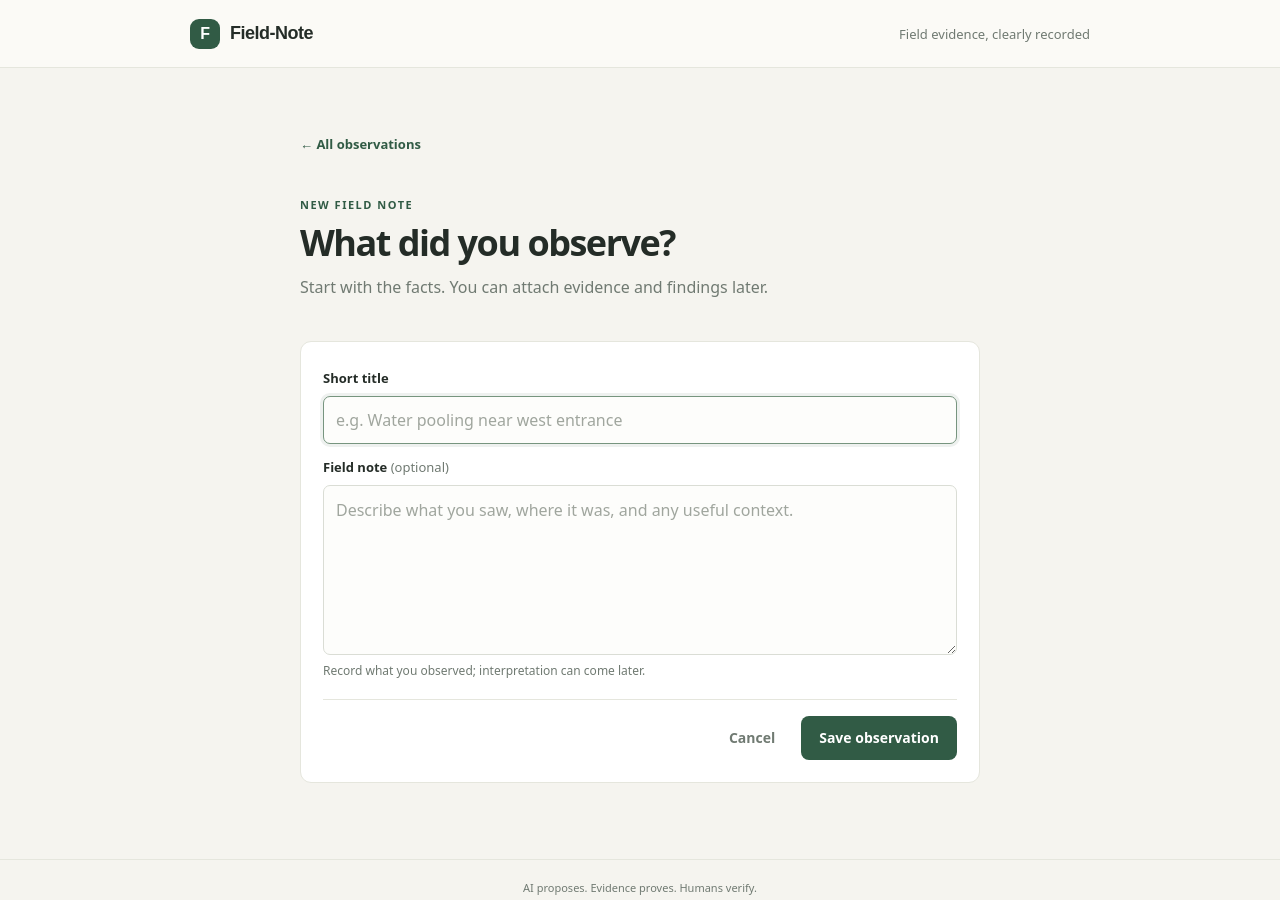
Test: Field-Note interactions › creates an M1 observation and opens the saved server record
The image size is (1280, 900).
Type "Cracked paving" into the field labelled "Short title".
click(640, 420); type("Cracked paving")  # box [323,396,957,444]
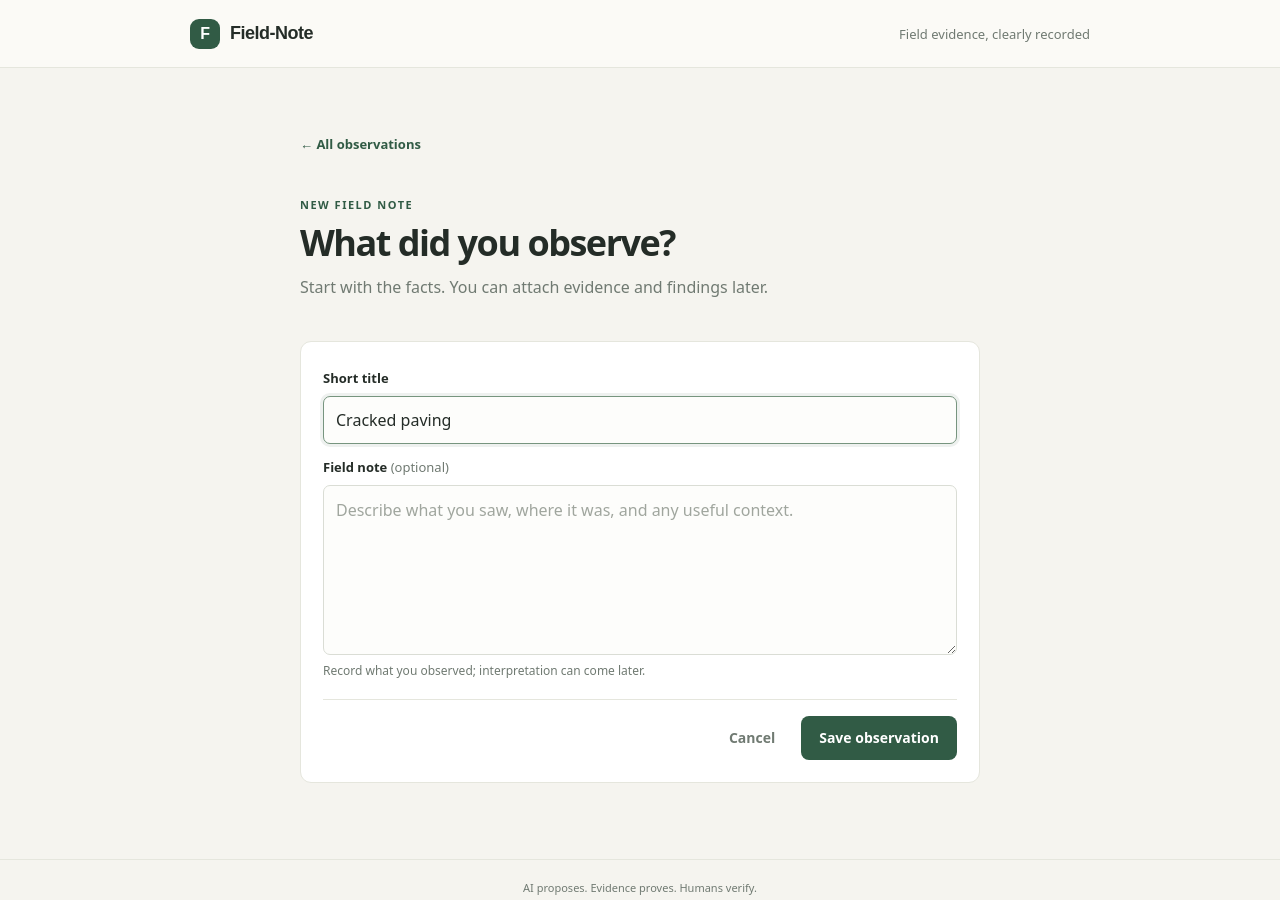
Type "Near the north gate." into the text box labelled "Field note (optional)".
click(640, 570); type("Near the north gate.")  # box [323,485,957,655]
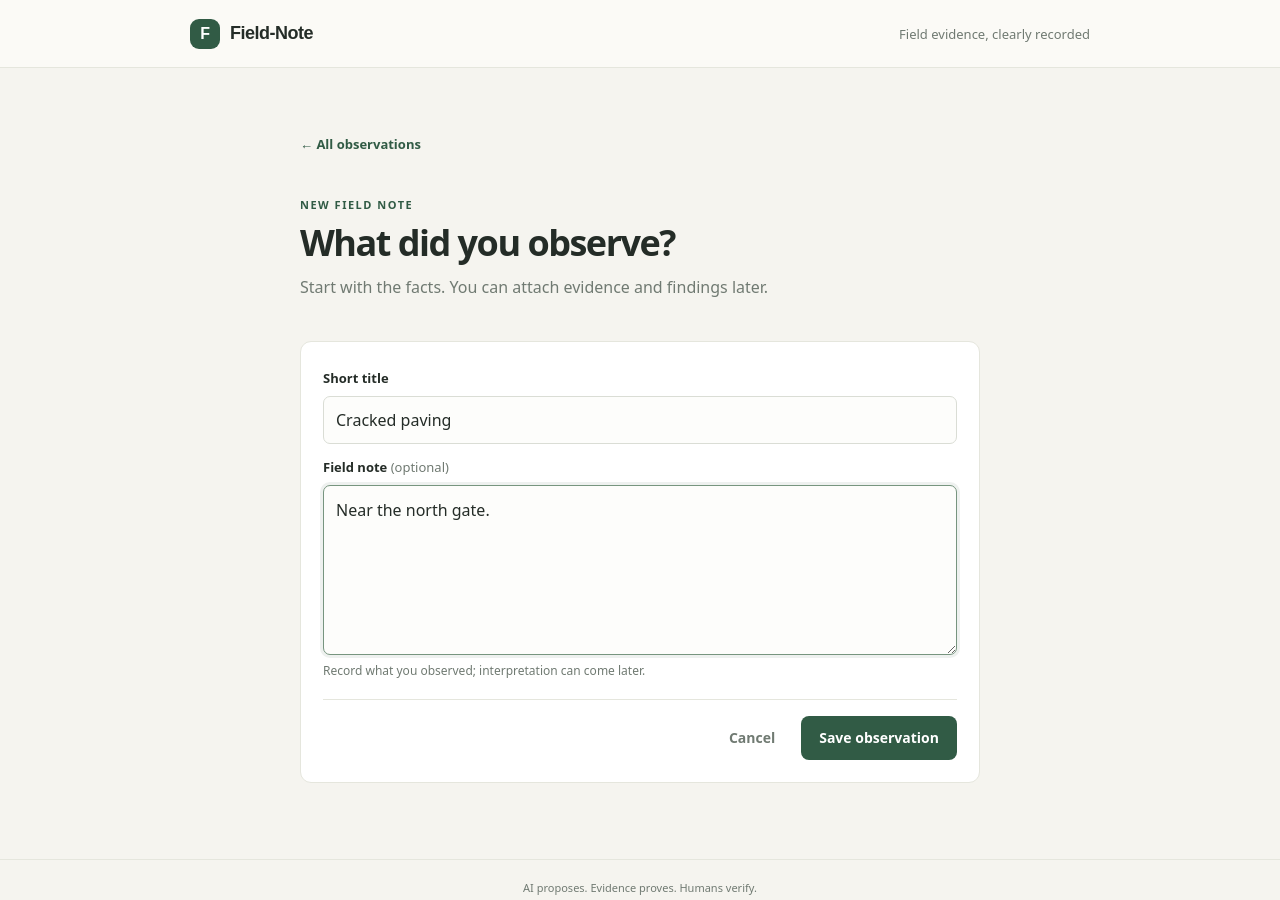
Click the button "Save observation".
click(879, 738)  # box [801,716,957,760]
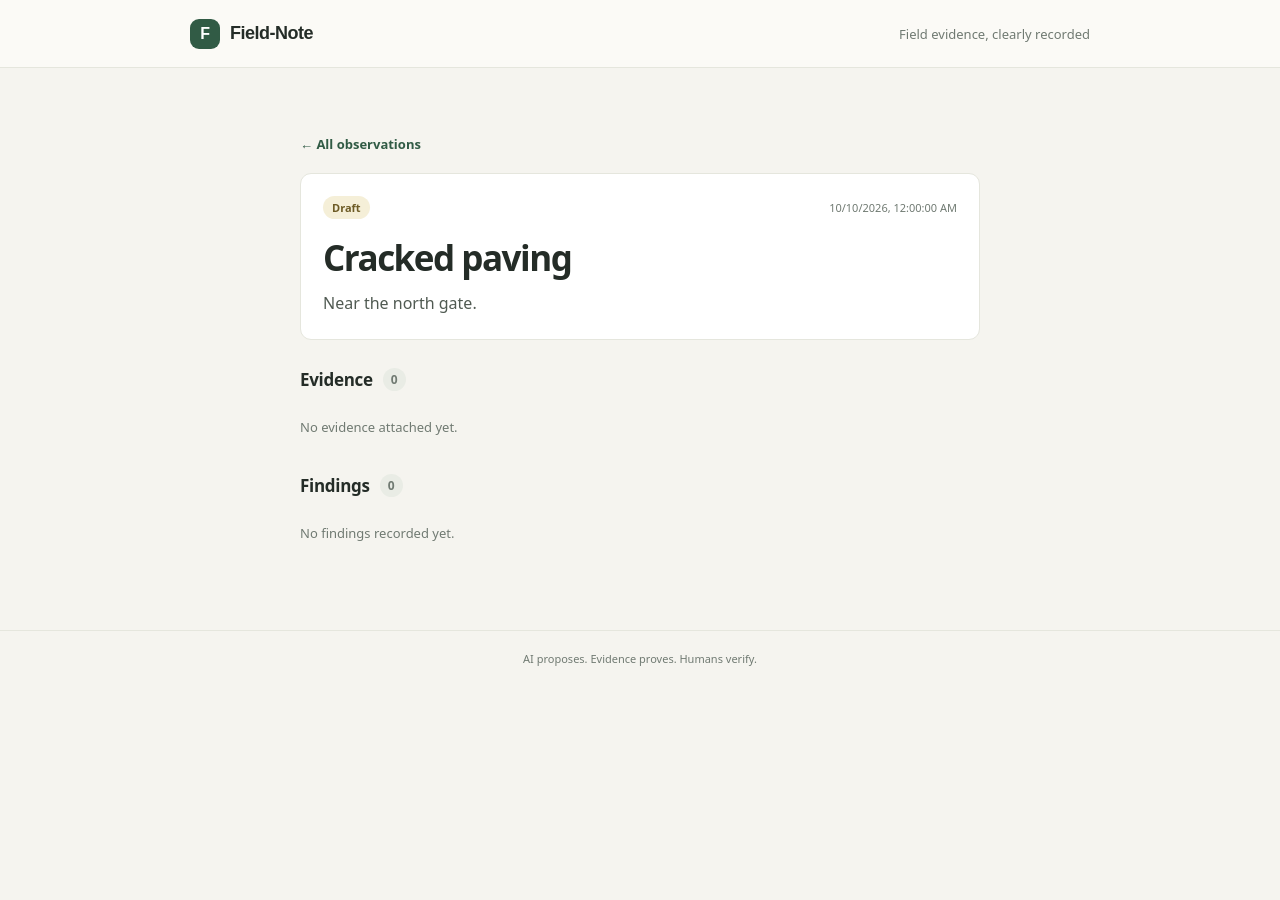
Expected: the heading "Cracked paving" is shown, [323,234,571,281]
Expected: the text "Near the north gate." is shown, [323,292,477,314]
